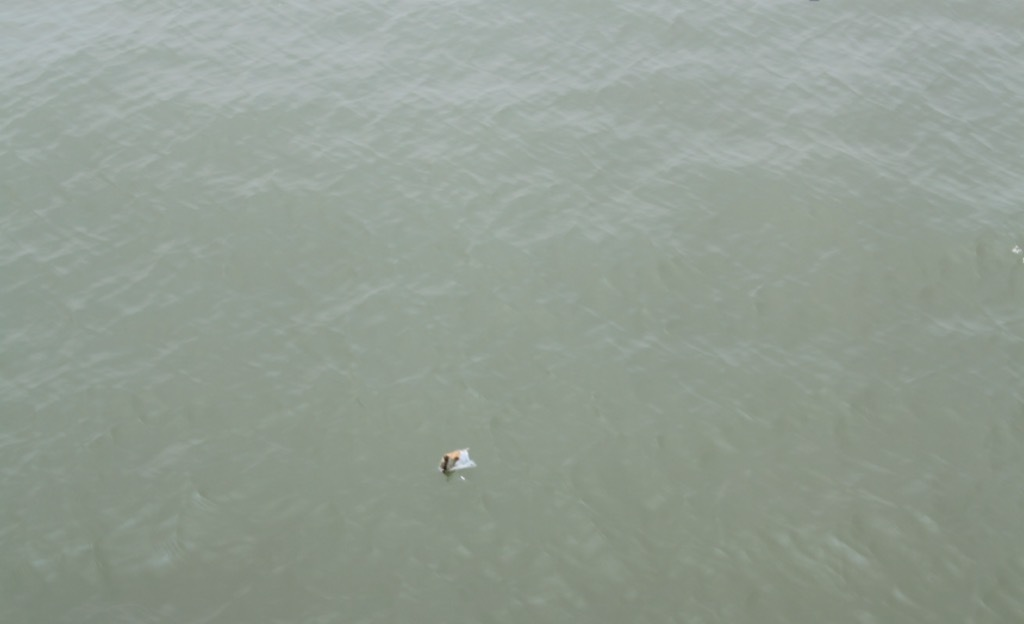plastic: (431, 440, 482, 492)
